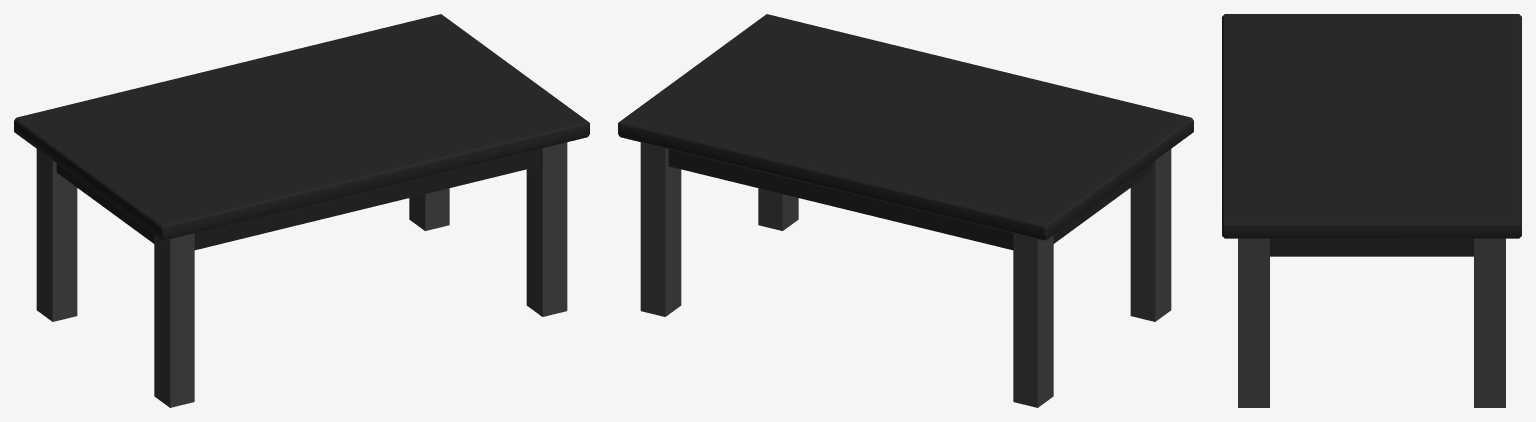
The model's file is kitchen_table_016.fbx.
3 views of the same model, side by side, from view 1: azimuth 30°, elevation 25°; view 2: azimuth 150°, elevation 25°; view 3: azimuth 270°, elevation 25° (orthographic).
Visible parts, largest first — view 1: kitchen_table_016; view 2: kitchen_table_016; view 3: kitchen_table_016.
Boxes of the visible parts, x1,y1,x2,y2 form: kitchen_table_016: [14, 14, 589, 407]; kitchen_table_016: [618, 14, 1193, 407]; kitchen_table_016: [1222, 14, 1521, 407].
Size of the model in its own units: 204 by 123 by 87.
